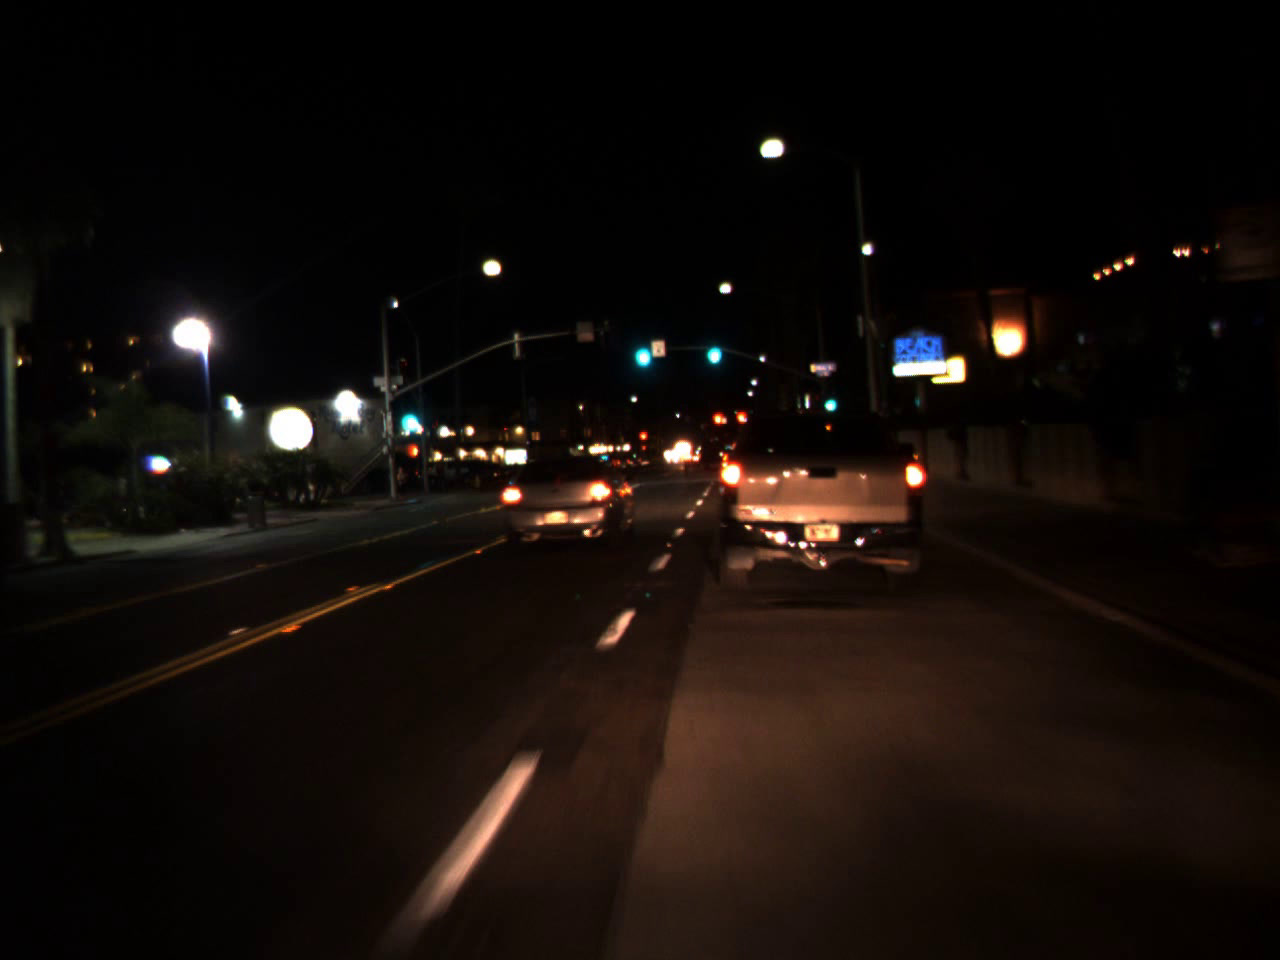go: (629, 327, 654, 372), (394, 395, 422, 434), (701, 331, 724, 364), (821, 387, 839, 414)
